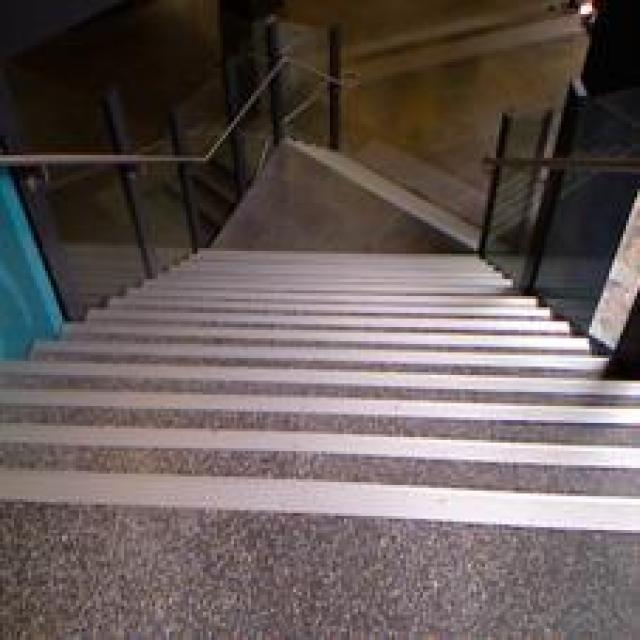downstair: (12, 300, 616, 525)
